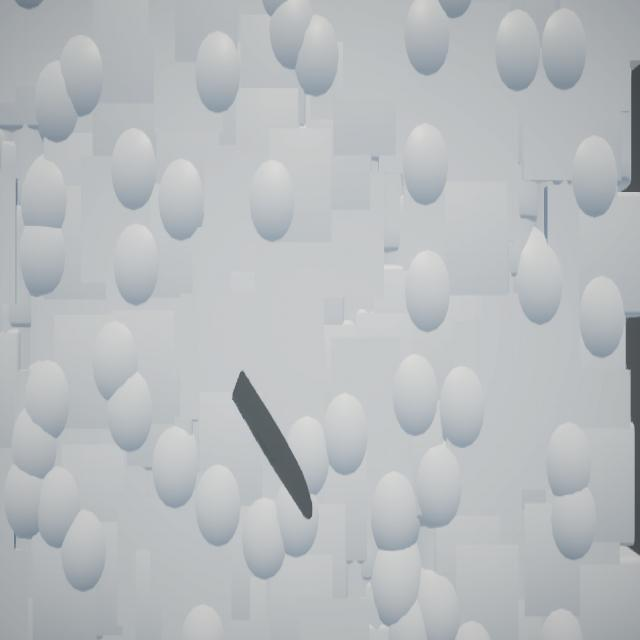top_knife: (233, 371, 314, 522)
